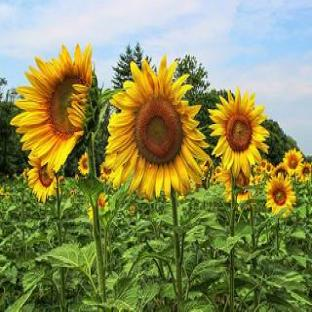sunflower: (104, 56, 211, 304), (208, 87, 270, 236)
